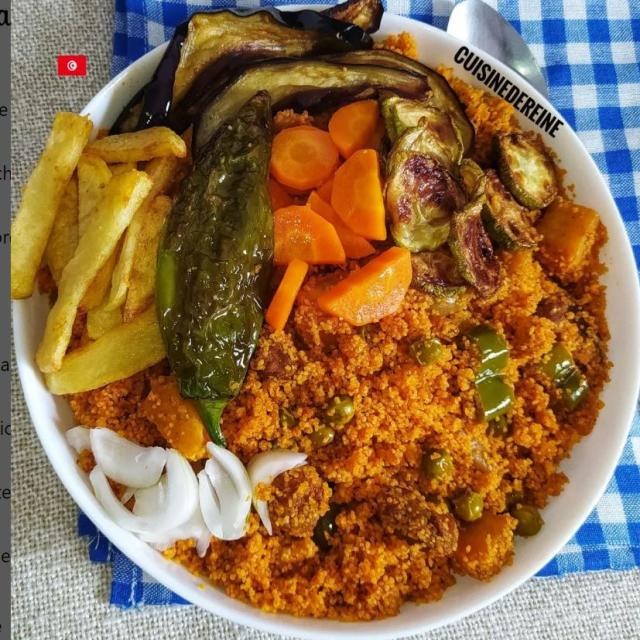Couscous: (162, 250, 602, 577)
